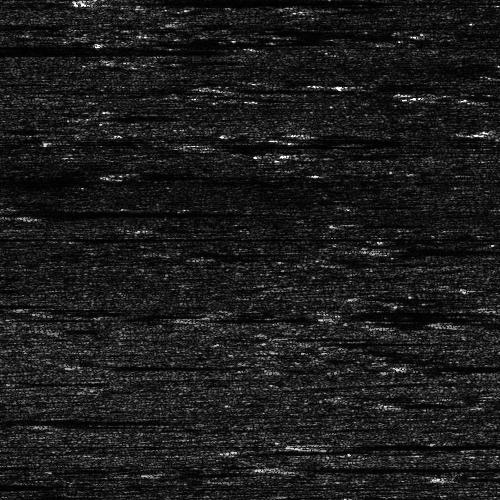rock: (235, 305, 422, 322), (341, 244, 424, 255), (59, 0, 174, 7), (172, 139, 245, 148), (0, 206, 55, 217), (270, 439, 343, 446), (47, 360, 100, 369), (53, 112, 116, 119), (314, 83, 397, 88), (378, 362, 419, 371), (248, 464, 321, 469), (470, 125, 500, 136), (416, 320, 457, 327), (37, 136, 78, 143), (345, 401, 398, 406), (205, 85, 246, 90), (302, 338, 343, 343), (0, 414, 7, 421)
shadow: (0, 29, 140, 68), (0, 206, 270, 217), (329, 305, 500, 322), (117, 0, 345, 7), (307, 439, 500, 446), (74, 360, 222, 369), (209, 139, 355, 148), (383, 244, 491, 255), (0, 414, 161, 421), (285, 464, 493, 469), (399, 362, 500, 371), (85, 112, 178, 119), (58, 136, 149, 143), (323, 338, 432, 343), (356, 83, 458, 88), (226, 85, 323, 90), (437, 320, 500, 327), (372, 401, 426, 406), (0, 299, 52, 304), (0, 482, 25, 491), (96, 171, 143, 174)
